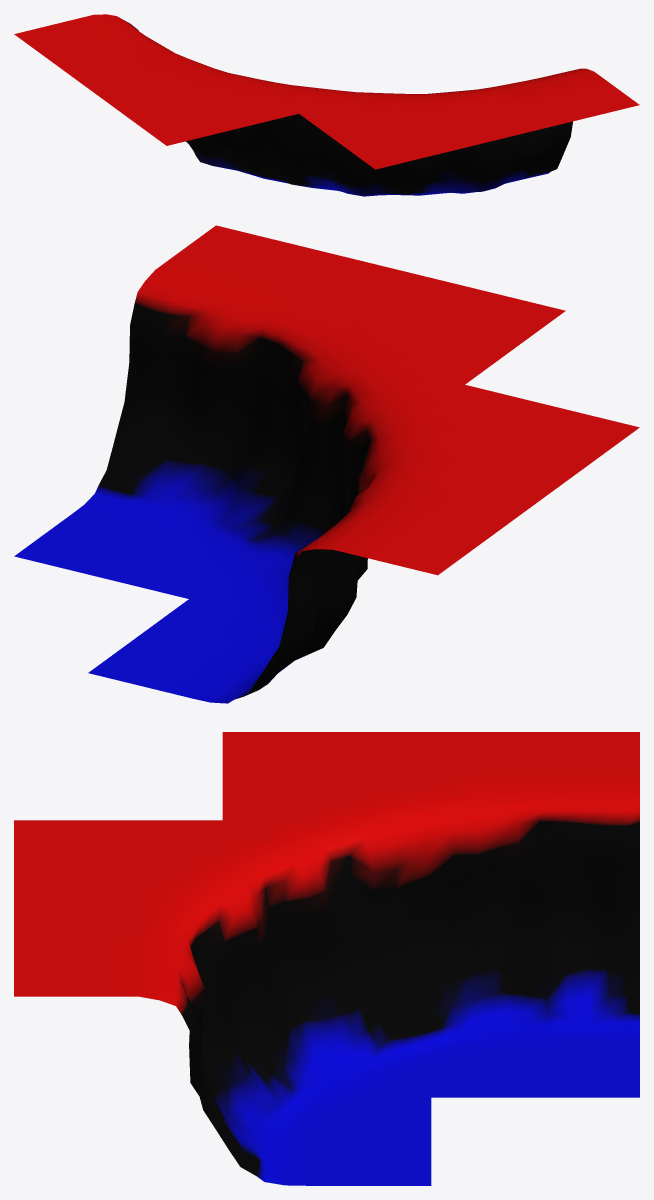
File: RiveCliff06A Foreground.fbx
3 renders of one model, top to bottom at view 1: azimuth 30°, elevation 25°; view 2: azimuth 150°, elevation 25°; view 3: azimuth 270°, elevation 25°, orthographic. The views are drawn at different scales.
Visible parts, largest first — view 1: RiveCliff06A Foreground; view 2: RiveCliff06A Foreground; view 3: RiveCliff06A Foreground.
Boxes of the visible parts, x1=… form: RiveCliff06A Foreground: x1=14, y1=14, x2=639, y2=196; RiveCliff06A Foreground: x1=14, y1=225, x2=639, y2=703; RiveCliff06A Foreground: x1=14, y1=732, x2=639, y2=1185.
Bounding box in the file's own units: 3 × 1 × 3.
